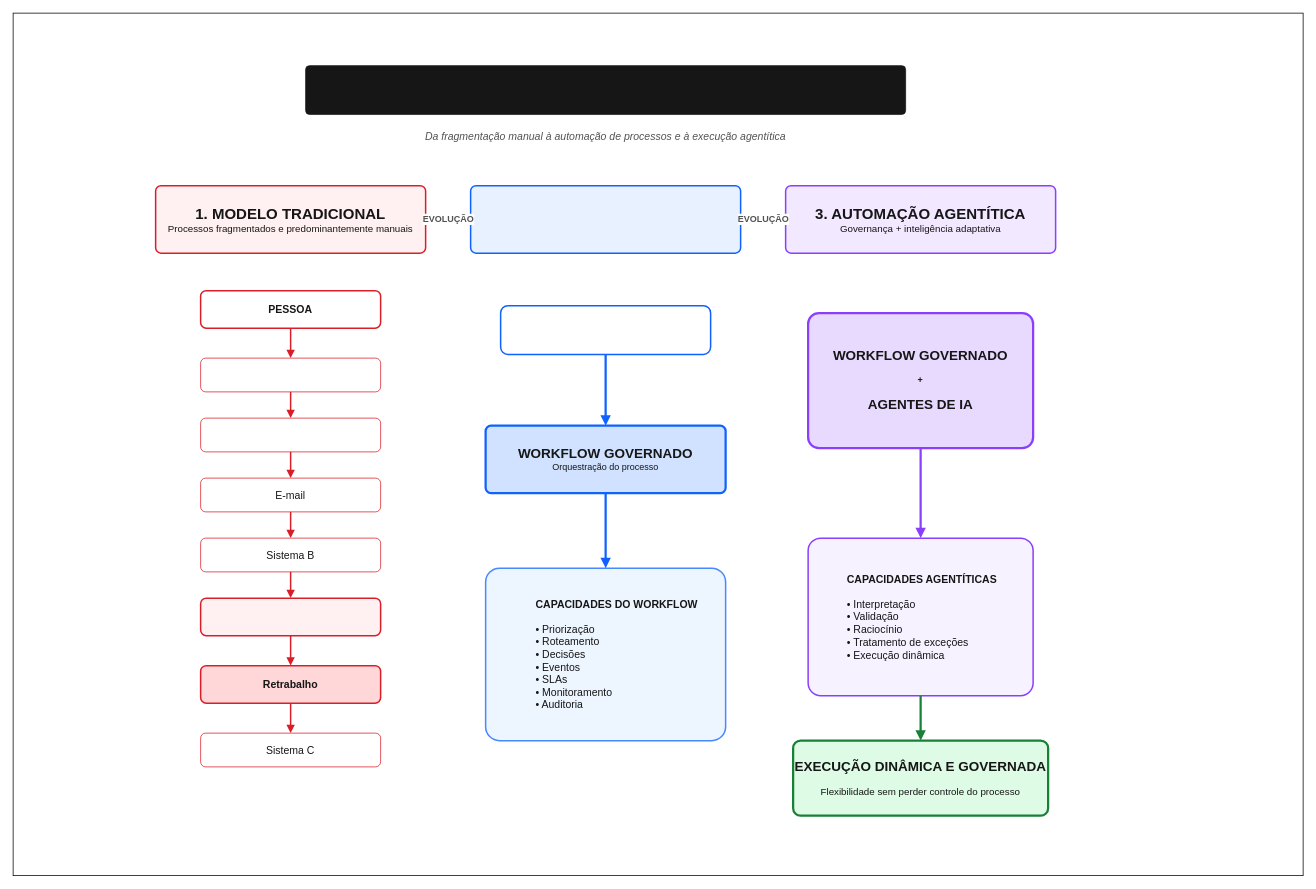
Image size: 1316x889. Some labels were removed from this diagram. Here are the shapes that lost their labels. From the top down, the box of each, then its label:
(305, 65, 906, 114): EVOLUÇÃO DO MODELO OPERACIONAL
(470, 184, 741, 254): 2. AUTOMAÇÃO DE PROCESSOS Orquestração estruturada e governada
(500, 304, 711, 355): PESSOAS + SISTEMAS + DADOS
(200, 357, 381, 392): Sistema A
(200, 417, 381, 452): Planilha
(200, 597, 381, 636): Aprovação manual
